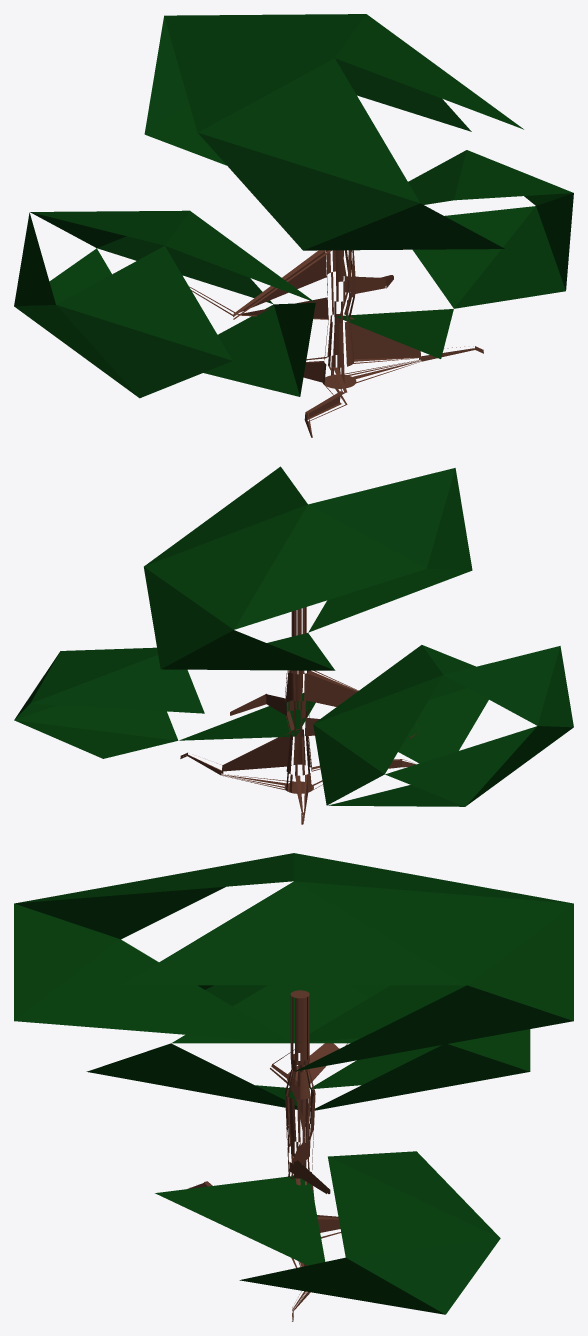
Rendered from Arbol2.fbx.
The picture shows the model from 3 angles, top to bottom: view 1: azimuth 30°, elevation 25°; view 2: azimuth 150°, elevation 25°; view 3: azimuth 270°, elevation 25°; orthographic projection. The views are drawn at different scales.
Parts seen in each view (by area): view 1: Arbol 2; view 2: Arbol 2; view 3: Arbol 2.
Part boxes in pixels (x1,y1,x2,y2): Arbol 2: [14, 14, 573, 437]; Arbol 2: [14, 466, 573, 824]; Arbol 2: [14, 853, 573, 1321].
Bounding box in the file's own units: 3433 × 2002 × 2809.
